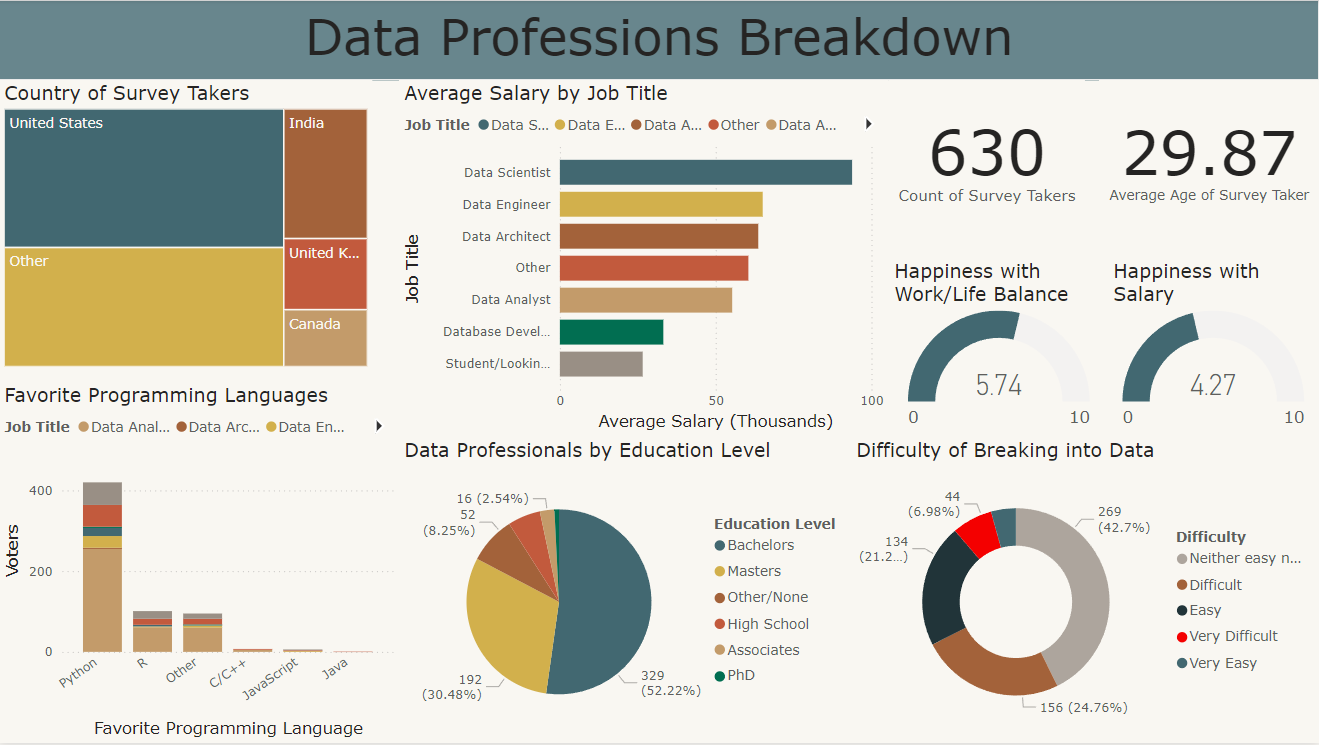

The dashboard page shown, as its layout file describes it:
{"tool":"powerbi","page":{"name":"Page 1","canvas":[1280,720],"ordinal":0},"visuals":[{"type":"textbox","box":[0,0,1280,77.8],"z":0},{"type":"card","fields":{"Values":["Count(Data Professional Survey.Unique ID)"]},"box":[894.4,77.3,172,149.6],"z":1000},{"type":"card","fields":{"Values":["Avg(Data Professional Survey.Q10 - Current Age)"]},"box":[1066.3,77.3,213.7,149.6],"z":2000},{"type":"barChart","title":"Average Salary by Job Title","fields":{"Category":["Data Professional Survey.Q1 - Which Title Best Fits your Current Role?.1"],"Y":["Avg(Data Professional Survey.Average Salary)"],"Series":["Data Professional Survey.Q1 - Which Title Best Fits your Current Role?.1"]},"box":[387.7,77.3,475.2,344.9],"z":3000},{"type":"columnChart","title":"Favorite Programming Languages","fields":{"Category":["Data Professional Survey.Q5 - Favorite Programming Language.1"],"Y":["CountNonNull(Data Professional Survey.Unique ID)"],"Series":["Data Professional Survey.Q1 - Which Title Best Fits your Current Role?.1"]},"box":[0,370.4,387.7,350],"z":4000},{"type":"treemap","title":"Country of Survey Takers","fields":{"Group":["Data Professional Survey.Q11 - Which Country do you live in?.1"],"Values":["CountNonNull(Data Professional Survey.Q11 - Which Country do you live in?.1)"]},"box":[0,77.3,362.2,282.9],"z":5000},{"type":"gauge","title":"Happiness with Work/Life Balance","fields":{"Y":["Avg(Data Professional Survey.Q6 - How Happy are you in your Current Position with the following? (Work/Life Balance))"],"MinValue":["Min(Data Professional Survey.Q6 - How Happy are you in your Current Position with the following? (Work/Life Balance))"],"MaxValue":["Max(Data Professional Survey.Q6 - How Happy are you in your Current Position with the following? (Work/Life Balance))1"]},"box":[862.7,250,213,173.1],"z":6000},{"type":"gauge","title":"Happiness with Salary","fields":{"Y":["Avg(Data Professional Survey.Q6 - How Happy are you in your Current Position with the following? (Salary))"],"MinValue":["Min(Data Professional Survey.Q6 - How Happy are you in your Current Position with the following? (Salary))"],"MaxValue":["Max(Data Professional Survey.Q6 - How Happy are you in your Current Position with the following? (Salary))"]},"box":[1075.7,250,204.3,173.1],"z":7000},{"type":"donutChart","title":"Difficulty of Breaking into Data","fields":{"Category":["Data Professional Survey.Q7 - How difficult was it for you to break into Data?"],"Y":["CountNonNull(Data Professional Survey.Q7 - How difficult was it for you to break into Data?)"]},"box":[388.1,423.1,474.7,296.7],"z":8000},{"type":"pieChart","fields":{"Category":["Data Professional Survey.Q12 - Highest Level of Education"],"Y":["CountNonNull(Data Professional Survey.Q12 - Highest Level of Education)"]},"box":[862.7,423.1,417.3,296.7],"z":9000}]}

Visuals, with their boxes in screenshot pixels (x1, y1, x2, y2), scaled from the page's 1280x720 canvas onto the 1319x745 screenshot:
textbox: detection(0, 0, 1318, 81)
card - Count(Data Professional Survey.Unique ID): detection(922, 80, 1099, 235)
card - Avg(Data Professional Survey.Q10 - Current Age): detection(1099, 80, 1318, 235)
"Average Salary by Job Title" barChart: detection(400, 80, 889, 437)
"Favorite Programming Languages" columnChart: detection(0, 383, 400, 744)
"Country of Survey Takers" treemap: detection(0, 80, 373, 373)
"Happiness with Work/Life Balance" gauge: detection(889, 259, 1108, 438)
"Happiness with Salary" gauge: detection(1108, 259, 1318, 438)
"Difficulty of Breaking into Data" donutChart: detection(400, 438, 889, 744)
pieChart - Data Professional Survey.Q12 - Highest Level of Education x CountNonNull(Data Professional Survey.Q12 - Highest Level of Education): detection(889, 438, 1318, 744)
